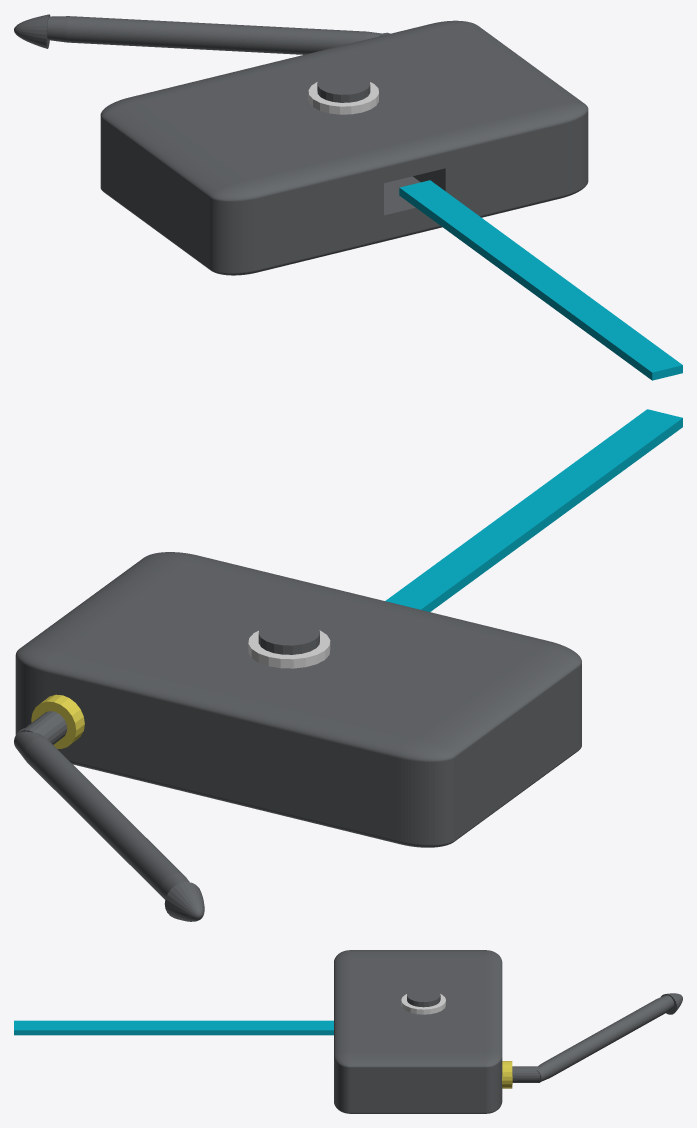
File: 02-CameraCase.glb
The picture shows the model from 3 angles, top to bottom: view 1: azimuth 30°, elevation 25°; view 2: azimuth 150°, elevation 25°; view 3: azimuth 270°, elevation 25°; orthographic projection. The views are drawn at different scales.
Visible parts, largest first — view 1: Mesh_Mesh_head_geo.001_lambert2SG.001; view 2: Mesh_Mesh_head_geo.001_lambert2SG.001; view 3: Mesh_Mesh_head_geo.001_lambert2SG.001.
Part boxes in pixels (left/top/right/bottom): Mesh_Mesh_head_geo.001_lambert2SG.001: left=14, top=14, right=682, bottom=380; Mesh_Mesh_head_geo.001_lambert2SG.001: left=14, top=409, right=682, bottom=921; Mesh_Mesh_head_geo.001_lambert2SG.001: left=14, top=950, right=682, bottom=1113.
Size of the model in its own units: 49 by 13 by 119.
